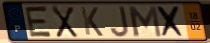E: (24, 5, 54, 38)
J: (109, 5, 131, 39)
K: (79, 6, 105, 38)
M: (126, 5, 164, 39)
X: (155, 5, 188, 39), (50, 4, 79, 39)
